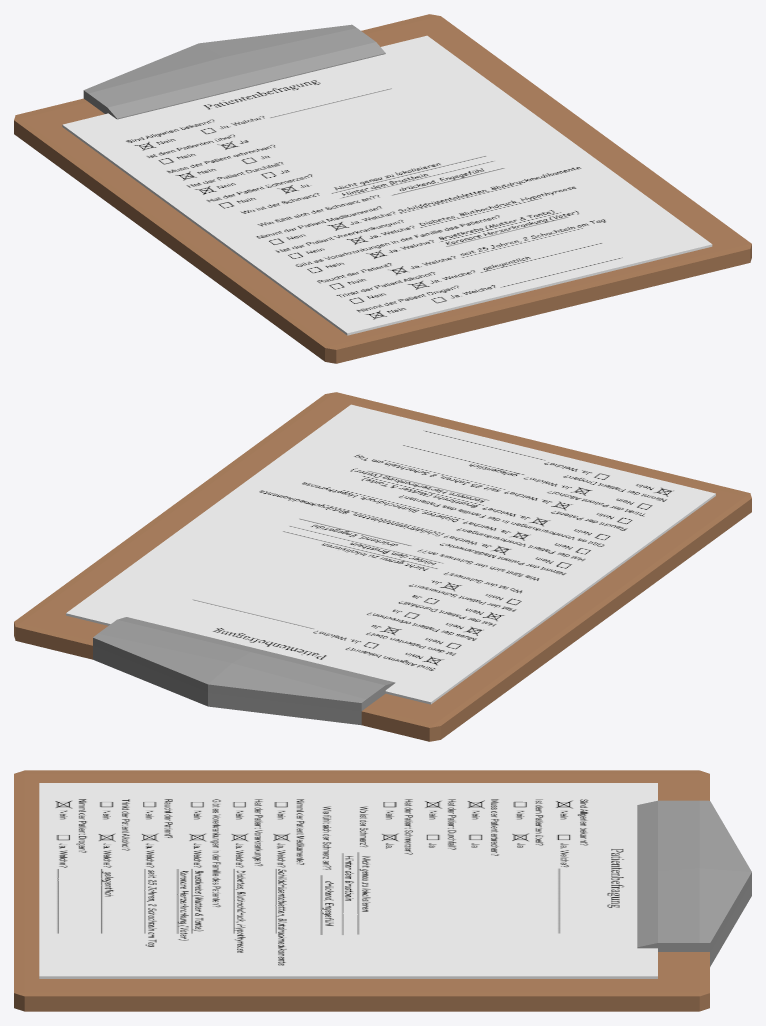
The model's file is clipboard.fbx.
3 renders of one model, top to bottom at view 1: azimuth 30°, elevation 25°; view 2: azimuth 150°, elevation 25°; view 3: azimuth 270°, elevation 25°, orthographic. The views are drawn at different scales.
Parts seen in each view (by area): view 1: Cube; view 2: Cube; view 3: Cube.
Boxes of the visible parts, x1=… form: Cube: x1=14, y1=14, x2=751, y2=363; Cube: x1=14, y1=392, x2=751, y2=741; Cube: x1=14, y1=770, x2=751, y2=1011.
Size of the model in its own units: 27.66 by 1.61 by 38.17.
